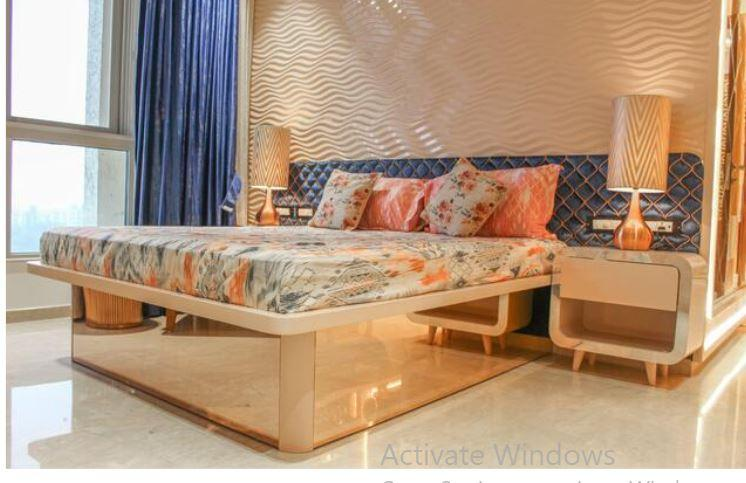bed: (18, 138, 603, 453)
light: (615, 98, 672, 262), (248, 119, 298, 216)
table: (538, 258, 712, 380)
